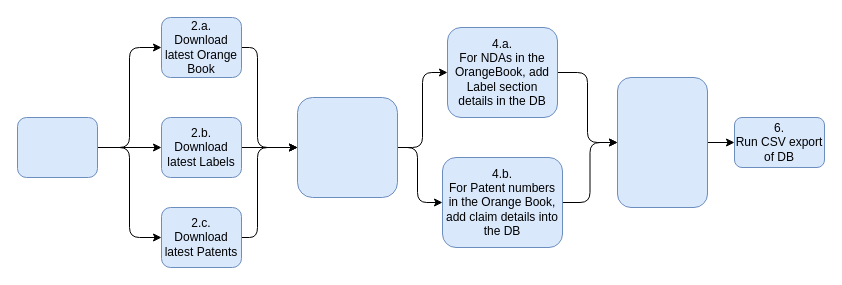
Some shapes in this 842 by 285 pixel diagram are drawn without their labels. The box of each missing label's shape, as (x1, y1, x2, y2) in pixels:
1. Check for updates on Orange Book: (16, 116, 98, 178)
3. Update Document DB with drug info, NDA, Patent Associations: (296, 96, 398, 198)
5. Run matching of labels and patents, update scores into the Document DB: (616, 76, 708, 208)
